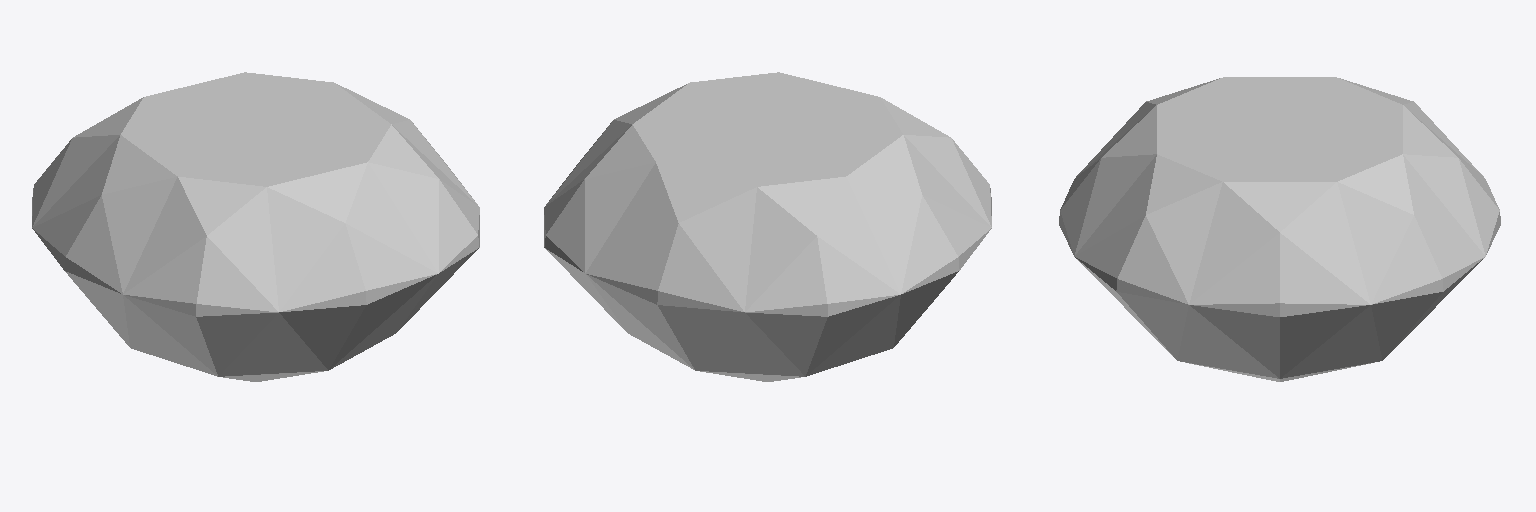
File: Gem.obj
The picture shows the model from 3 angles: view 1: azimuth 30°, elevation 25°; view 2: azimuth 150°, elevation 25°; view 3: azimuth 270°, elevation 25°; orthographic projection.
Parts seen in each view (by area): view 1: Cube; view 2: Cube; view 3: Cube.
Boxes of the visible parts, x1=… form: Cube: x1=32, y1=72, x2=479, y2=381; Cube: x1=544, y1=72, x2=991, y2=381; Cube: x1=1059, y1=77, x2=1500, y2=381.
Bounding box in the file's own units: 2.24 × 1.41 × 2.24.